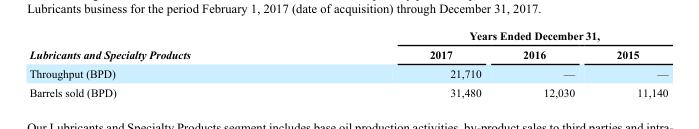table: (28, 28, 667, 98)
table column: (28, 28, 309, 98), (309, 28, 501, 98), (501, 28, 594, 98), (594, 28, 667, 98)
table column header: (28, 28, 667, 63)
table row: (28, 44, 667, 63), (28, 63, 667, 82), (28, 28, 667, 44), (28, 82, 667, 98)
table spanning cell: (28, 28, 309, 63), (309, 28, 667, 44)
